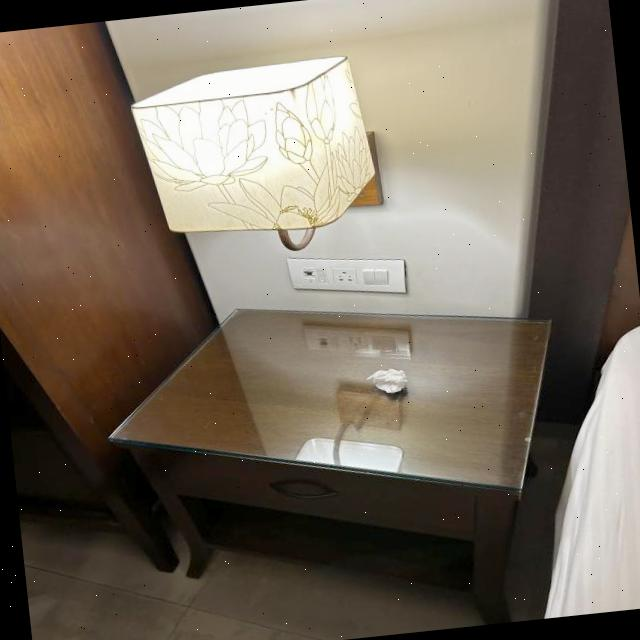lamp: (125, 52, 378, 269)
mess: (354, 354, 422, 407)
messy_table: (105, 307, 548, 621)
